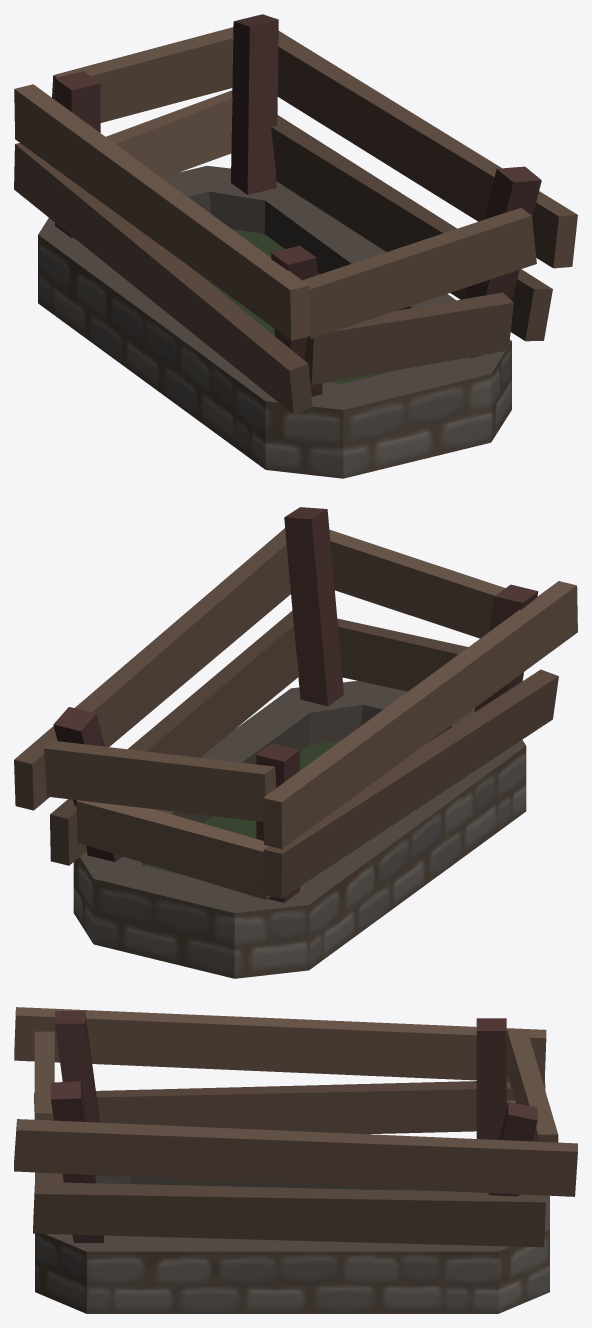
Rendered from Cantero_B2.fbx.
3 renders of one model, top to bottom at view 1: azimuth 30°, elevation 25°; view 2: azimuth 150°, elevation 25°; view 3: azimuth 270°, elevation 25°, orthographic. The views are drawn at different scales.
Visible parts, largest first — view 1: Cantero_B2; view 2: Cantero_B2; view 3: Cantero_B2.
Part boxes in pixels (<box>): Cantero_B2: <box>14,14,577,478</box>; Cantero_B2: <box>14,507,577,978</box>; Cantero_B2: <box>14,1007,577,1313</box>.
Size of the model in its own units: 134 by 110 by 252.
Materials: 1 (1 with a texture image).
